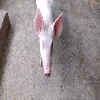heo: (31, 5, 65, 80)
